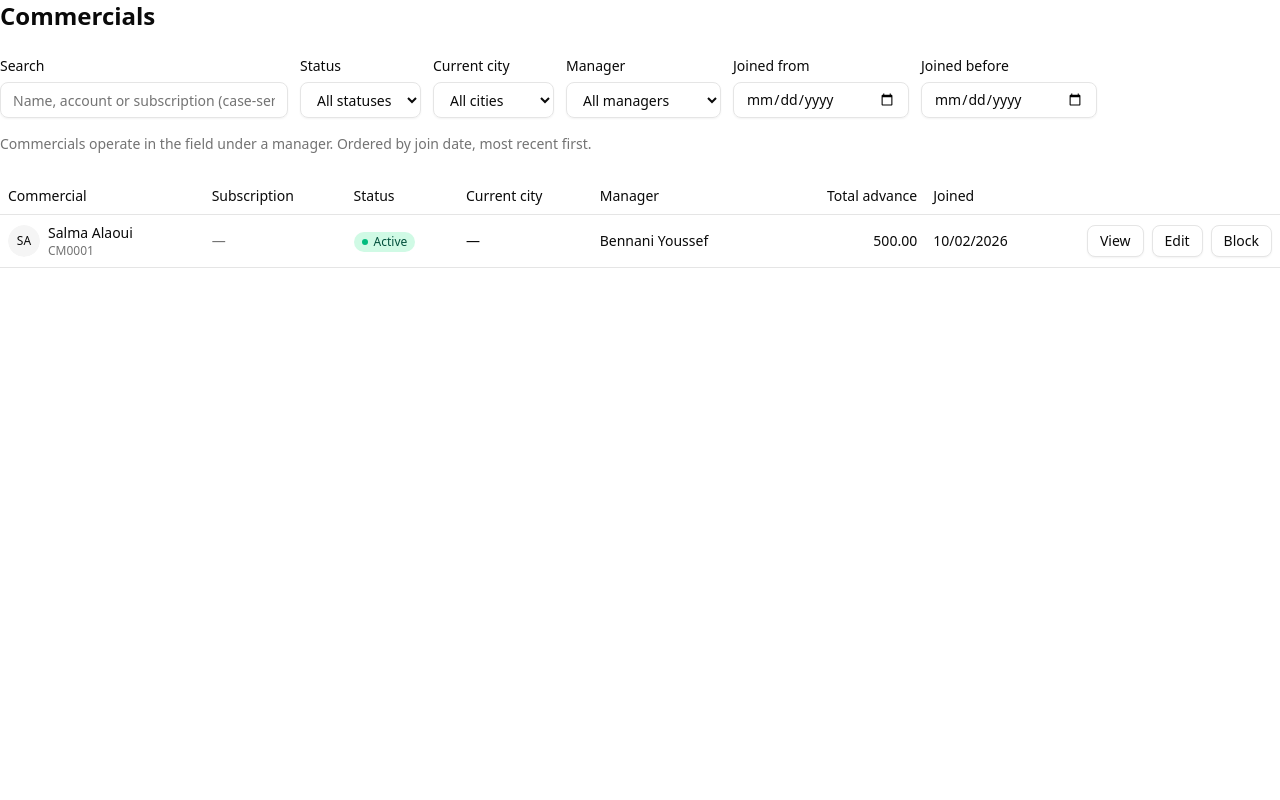
Test: edit › seeds an empty string, not a null, for a null num_abonnement and null ville_actuelle
Click the button with aria-label "edit salma alaoui" at (1177,241), box [1152,225,1203,257]
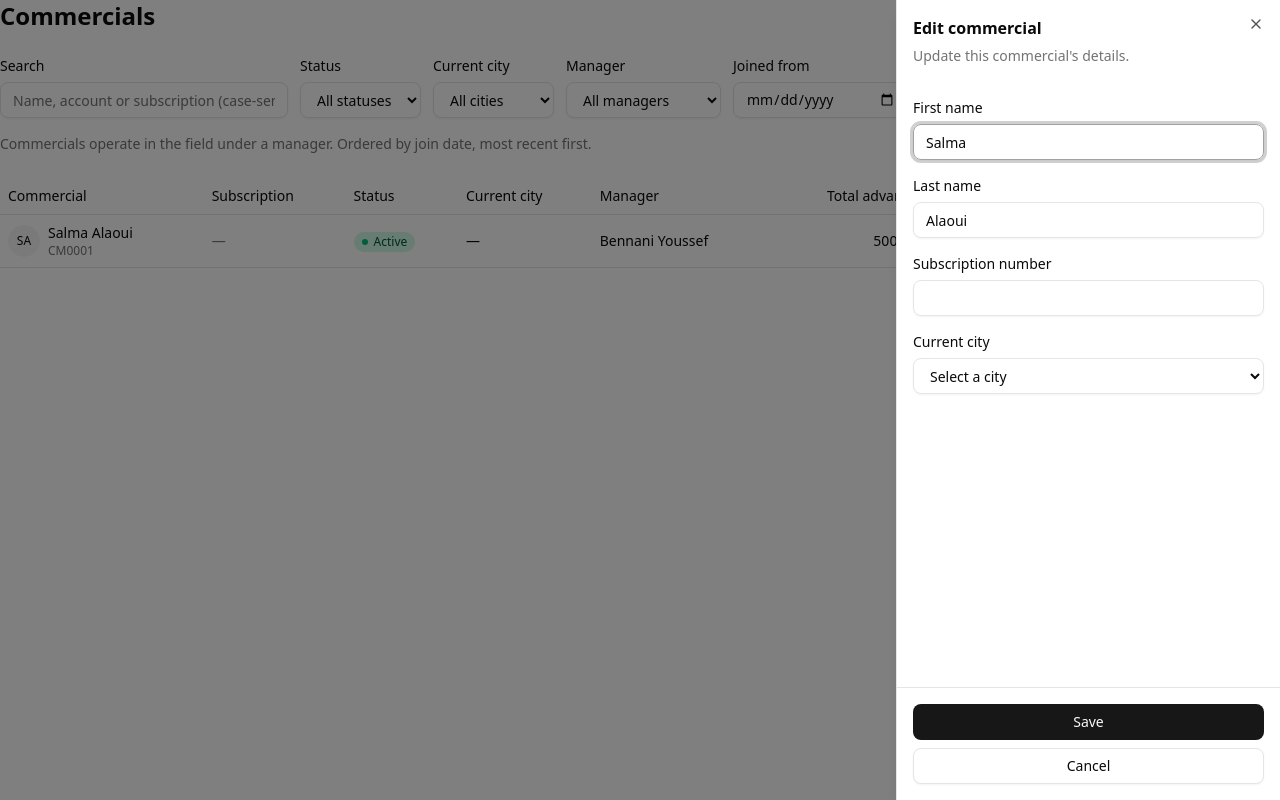
Expected: the field labelled "Subscription number" is empty, [913,280,1264,316]
Now the dropdown labelled "Current city" shows "Select a city", box [913,358,1264,394]
